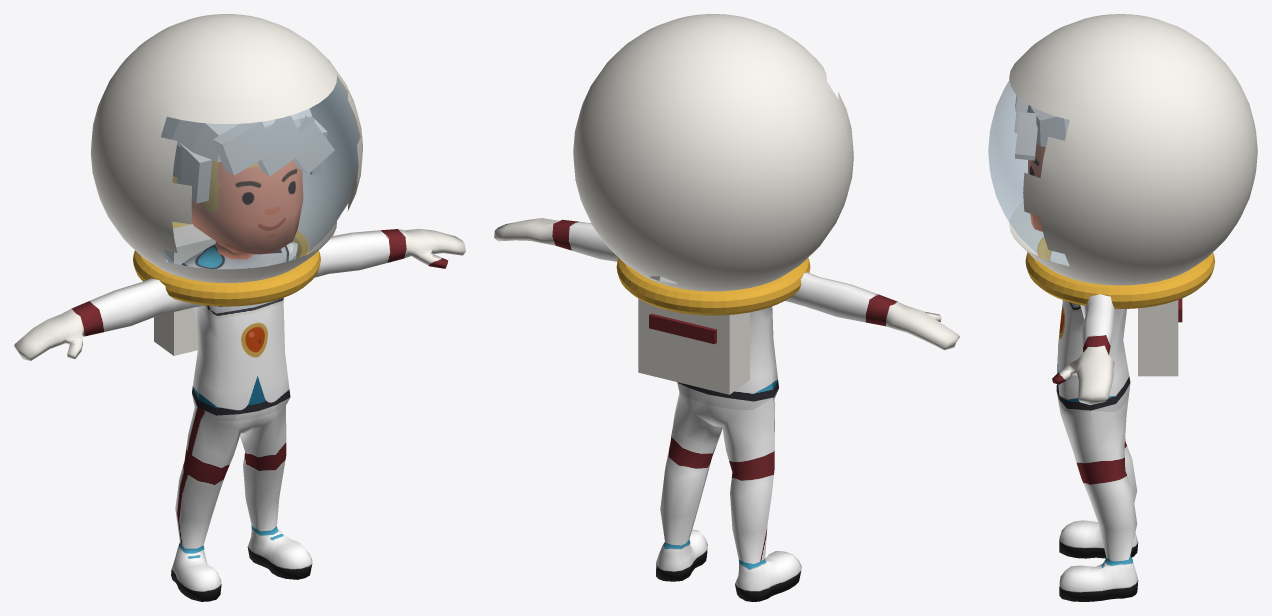
File: mike-astronauta.obj
The picture shows the model from 3 angles, left to right: view 1: azimuth 30°, elevation 25°; view 2: azimuth 150°, elevation 25°; view 3: azimuth 270°, elevation 25°; orthographic projection. The views are drawn at different scales.
Parts seen in each view (by area): view 1: characterMedium, Capacete, Viseira, MikeHair, Gola, Mochila; view 2: Capacete, characterMedium, Mochila, Gola, Mochila-faixa; view 3: Capacete, characterMedium, Viseira, Gola, Mochila, MikeHair.
Part boxes in pixels (box(x1,y1,x2,y2)): characterMedium: box(14, 160, 465, 601); Capacete: box(90, 14, 362, 282); Viseira: box(161, 80, 357, 268); MikeHair: box(161, 108, 334, 203); Gola: box(133, 222, 320, 306); Mochila: box(154, 224, 215, 355); Capacete: box(573, 14, 853, 291); characterMedium: box(494, 218, 959, 601); Mochila: box(638, 298, 749, 394); Gola: box(616, 258, 810, 315); Mochila-faixa: box(649, 313, 716, 344); Capacete: box(1009, 14, 1257, 285); characterMedium: box(1028, 144, 1138, 601); Viseira: box(988, 80, 1069, 266); Gola: box(1025, 237, 1215, 308); Mochila: box(1138, 300, 1178, 376); MikeHair: box(1014, 95, 1069, 160).
Size of the model in its own units: 3.62 by 4.21 by 1.88.
Materials: 8 (1 with a texture image).
